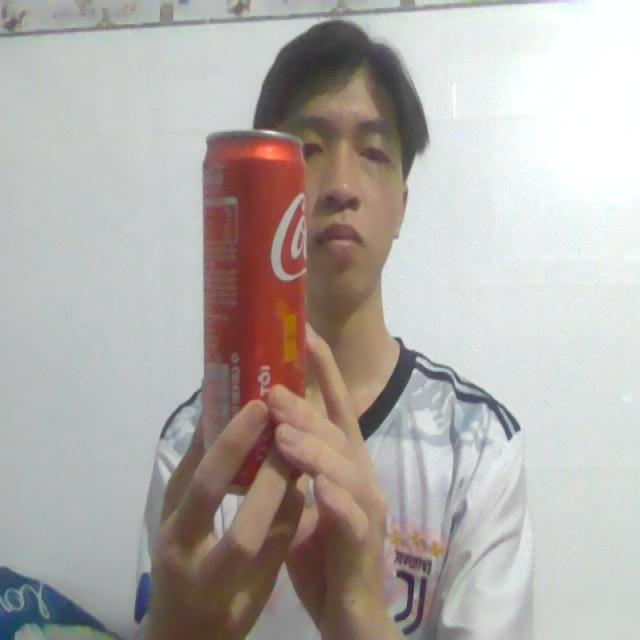cocacola: (181, 119, 332, 518)
